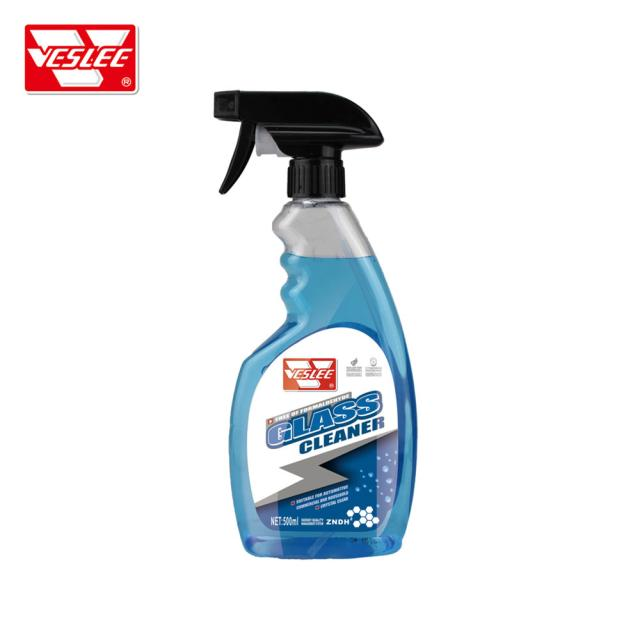winwinshield_washer: (208, 81, 422, 566)
